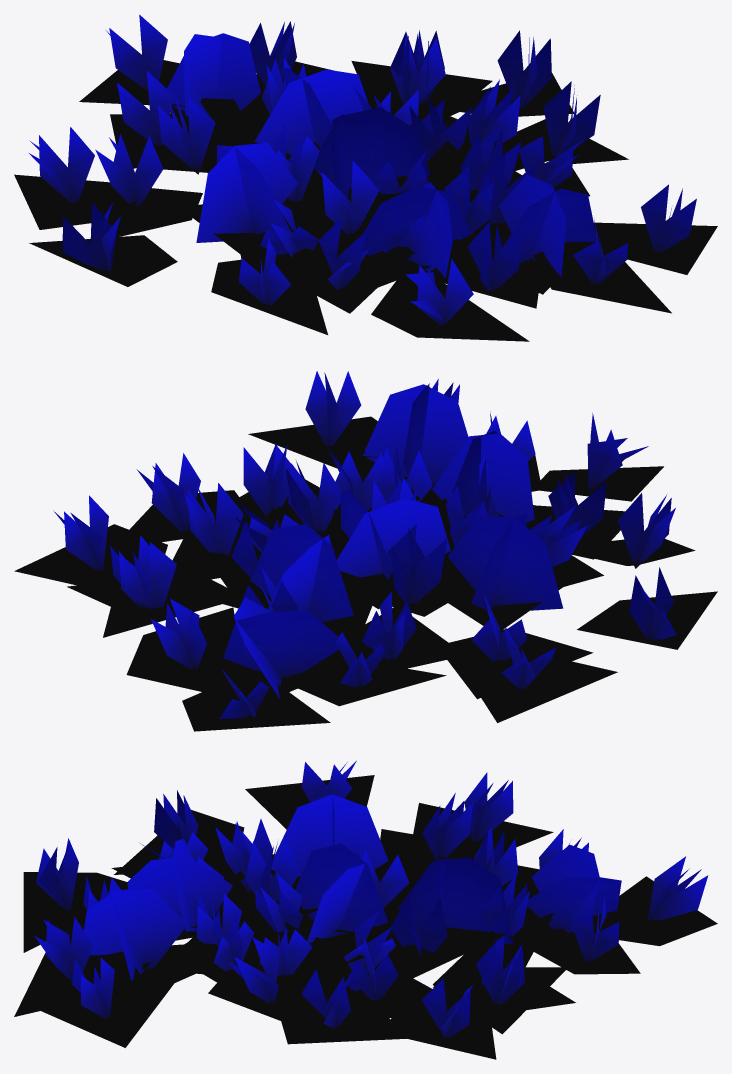
Rendered from SM_WildGrass_S_03.fbx.
The picture shows the model from 3 angles, top to bottom: view 1: azimuth 30°, elevation 25°; view 2: azimuth 150°, elevation 25°; view 3: azimuth 270°, elevation 25°; orthographic projection. The views are drawn at different scales.
Visible parts, largest first — view 1: SM_WildGrass_S_03; view 2: SM_WildGrass_S_03; view 3: SM_WildGrass_S_03.
Part boxes in pixels (x1=…): SM_WildGrass_S_03: x1=14, y1=14, x2=717, y2=341; SM_WildGrass_S_03: x1=14, y1=371, x2=717, y2=731; SM_WildGrass_S_03: x1=14, y1=760, x2=717, y2=1059.
Size of the model in its own units: 121 by 135 by 22.34.
